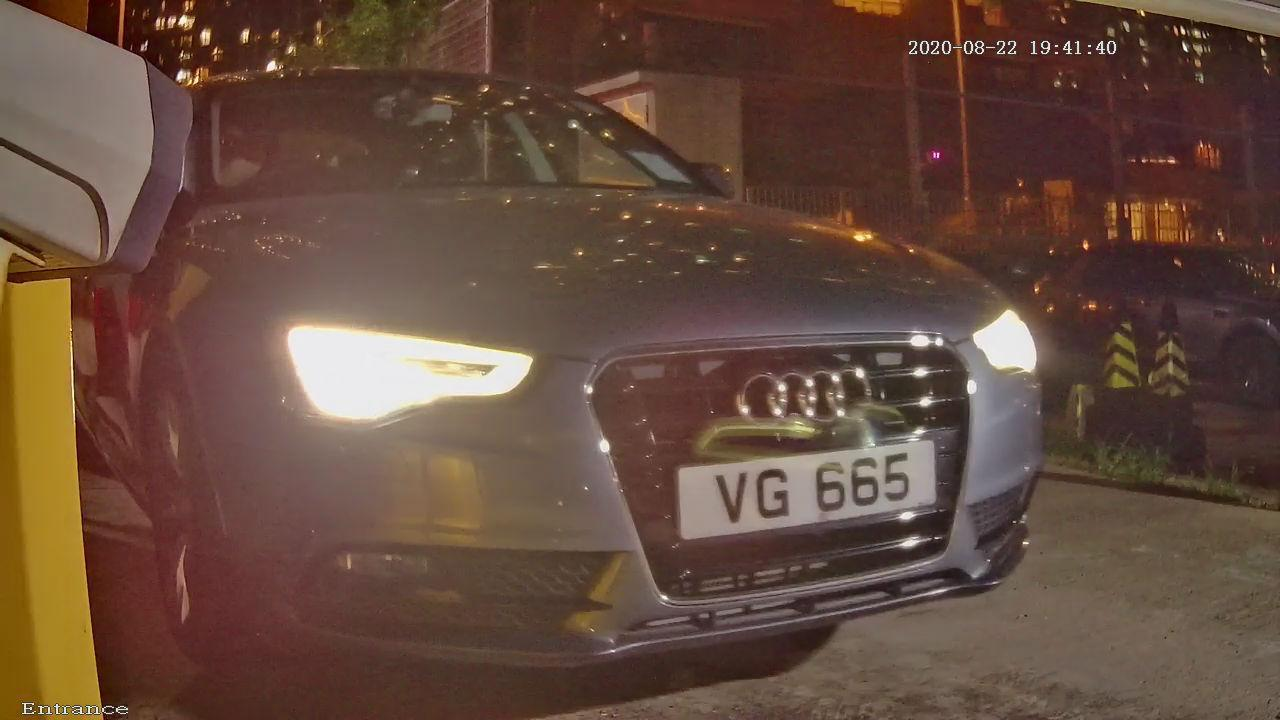Car: (35, 10, 1189, 714)
License Plate: (635, 417, 972, 581)
